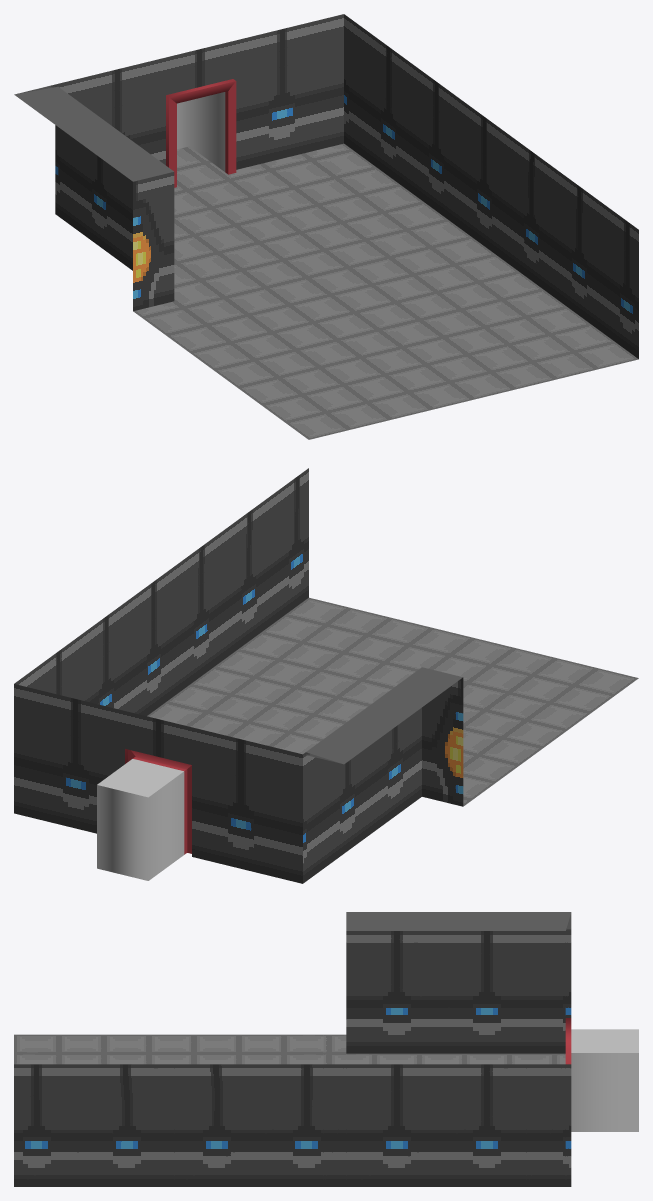
File: GALHQ14-2.obj
3 views of the same model, one above another, from view 1: azimuth 30°, elevation 25°; view 2: azimuth 150°, elevation 25°; view 3: azimuth 270°, elevation 25° (orthographic). The views are drawn at different scales.
Parts seen in each view (by area): view 1: m_dun2608_01_00c; view 2: m_dun2608_01_00c; view 3: m_dun2608_01_00c.
Boxes of the visible parts, bbox=[...] form: m_dun2608_01_00c: bbox=[14, 14, 638, 439]; m_dun2608_01_00c: bbox=[14, 468, 638, 883]; m_dun2608_01_00c: bbox=[14, 912, 638, 1186].
Size of the model in its own units: 128 by 48 by 222.
